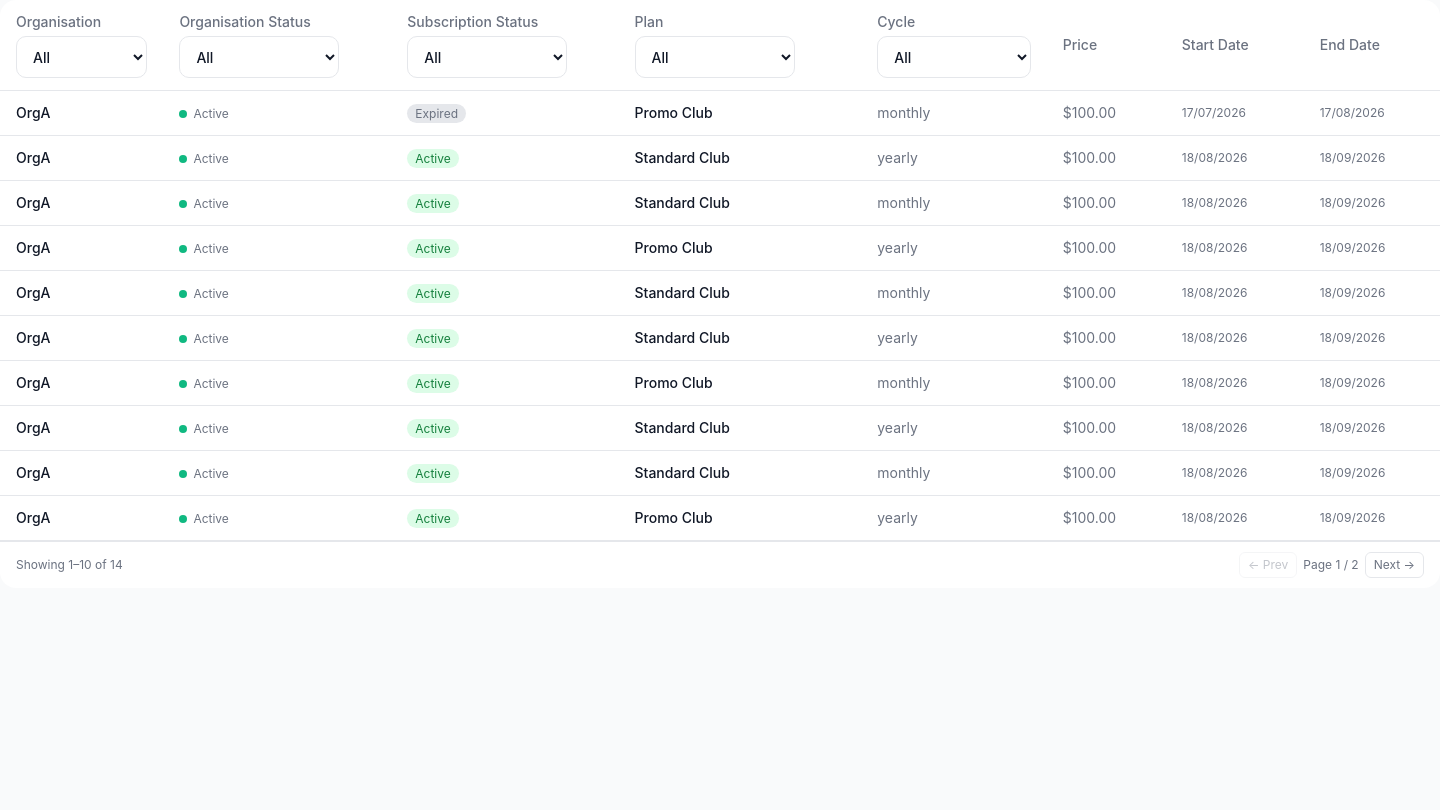
Test: View Assignments — column filters & pagination › combined filters apply cumulative AND logic
Select "OrgA" in the dropdown named "Filter by Organisation" at (82, 57), box top-left (16, 36), bottom-right (147, 78)
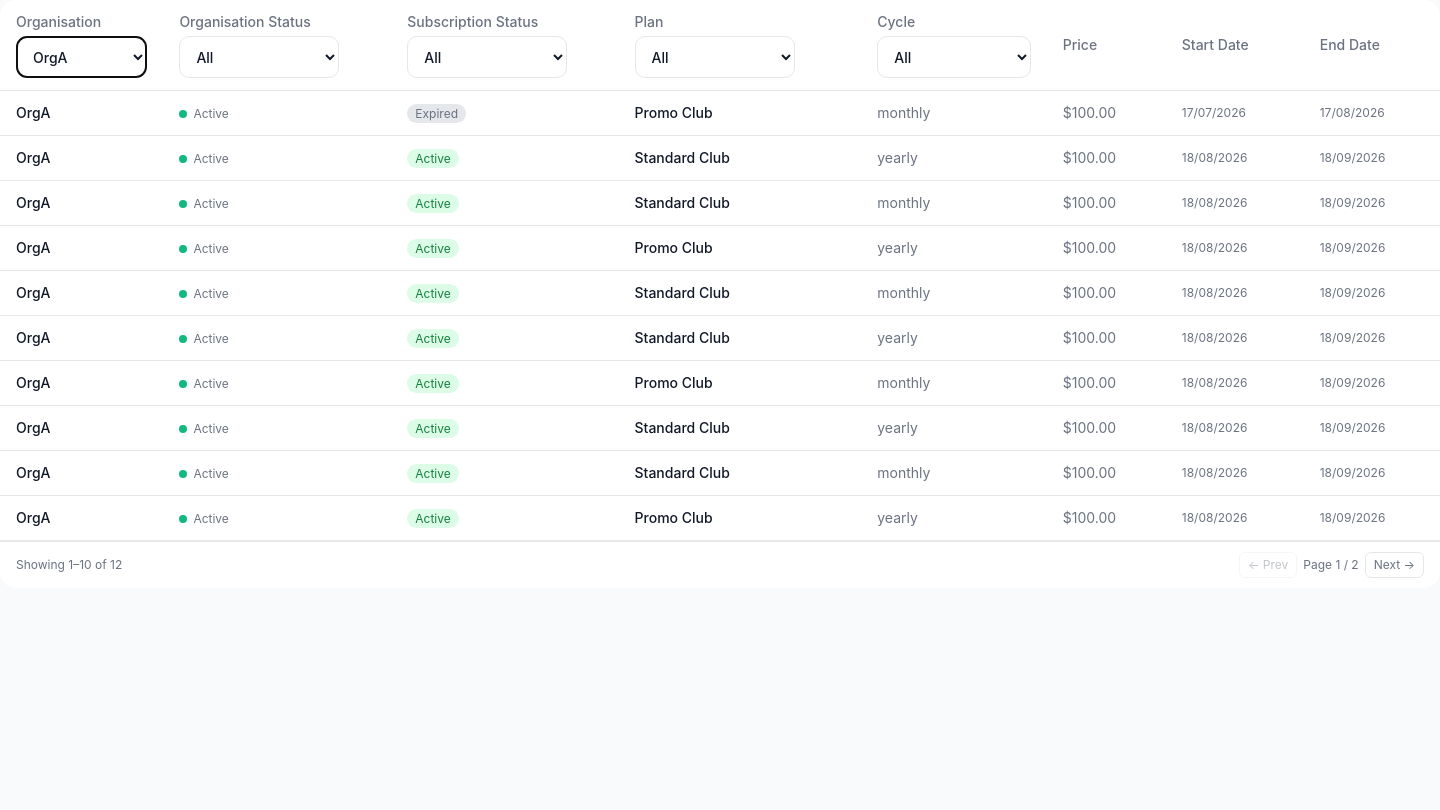
Select "Expired" in the dropdown named "Filter by Subscription Status" at (487, 57), box top-left (407, 36), bottom-right (567, 78)
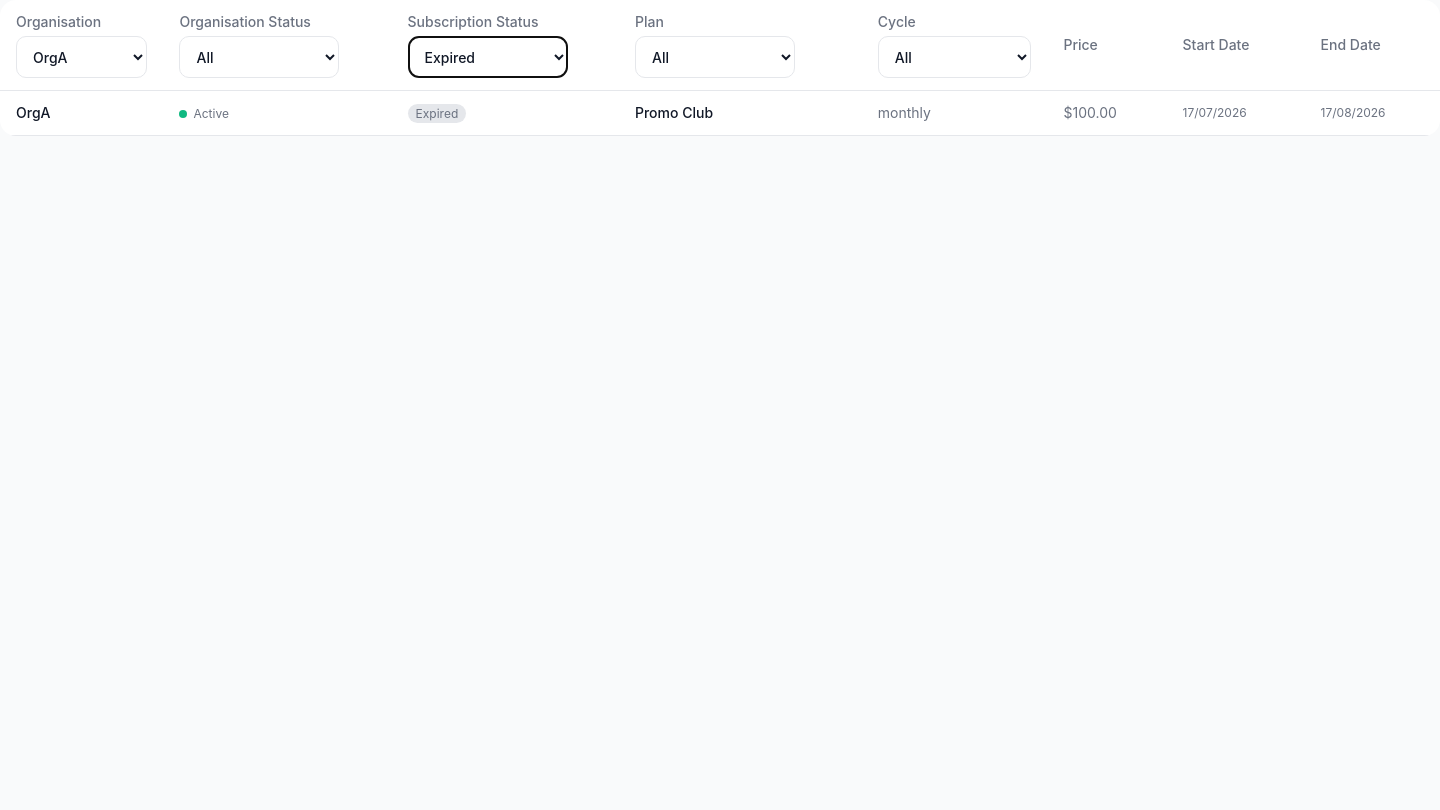
Select "yearly" in the dropdown named "Filter by Cycle" at (955, 57), box top-left (878, 36), bottom-right (1031, 78)
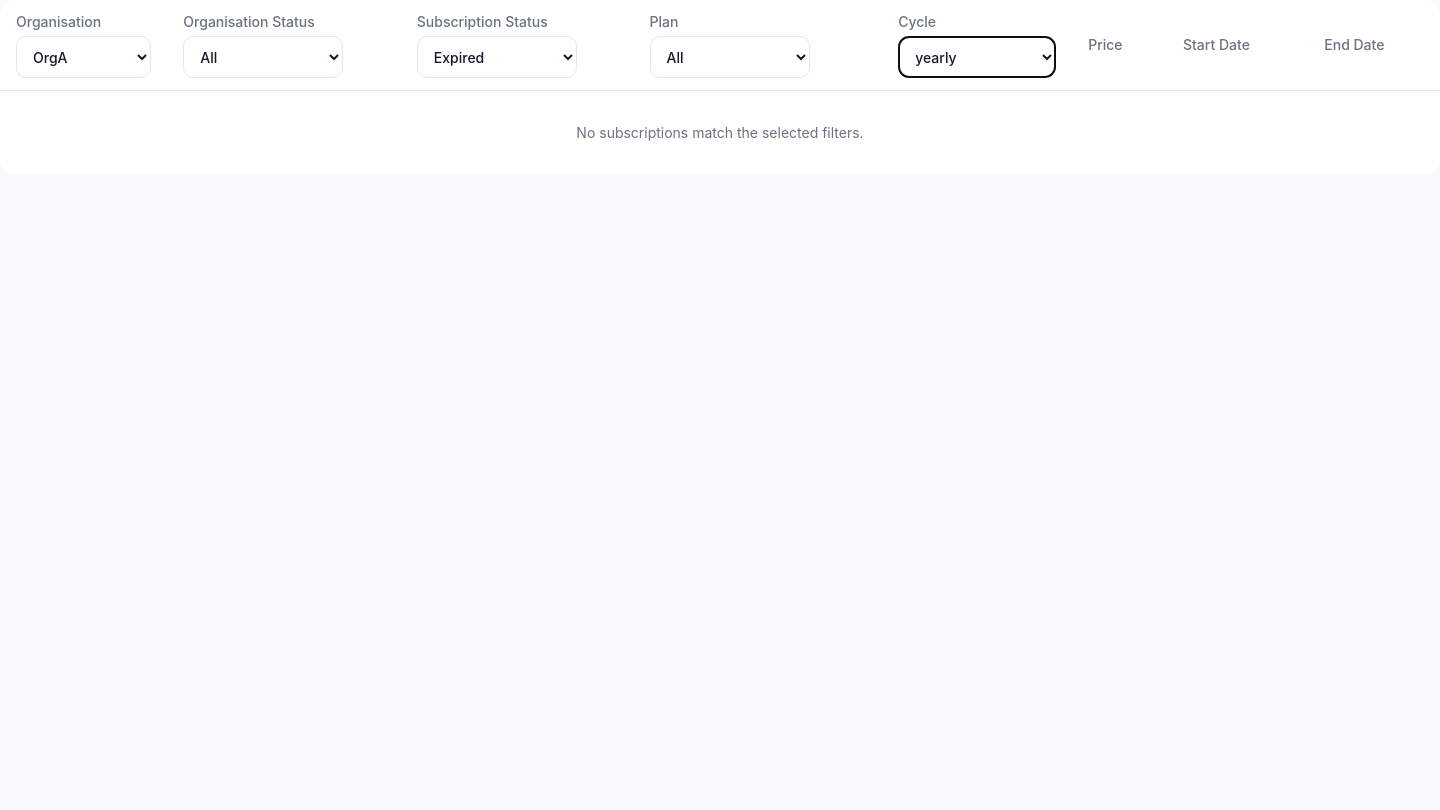
Expected: the text "No subscriptions match the selected filters." is shown, top-left (576, 124), bottom-right (864, 141)
